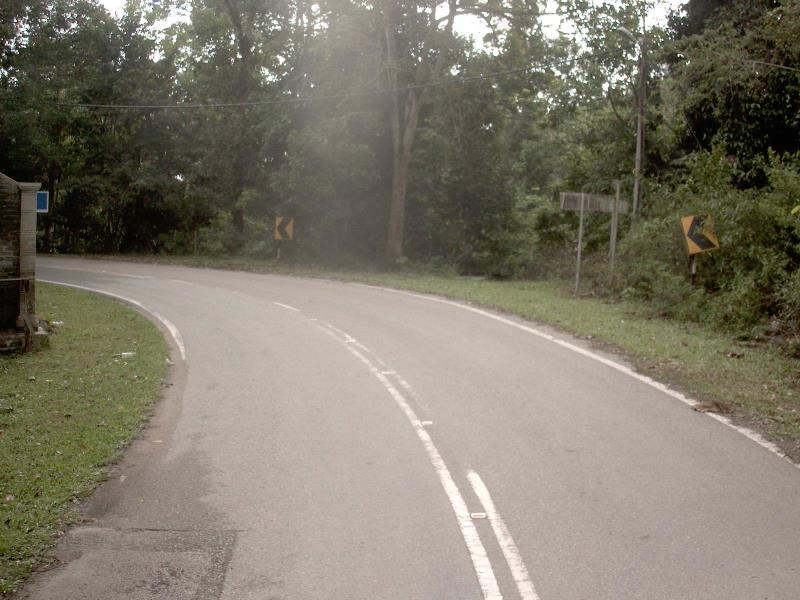traffic_sign: (677, 207, 725, 262)
